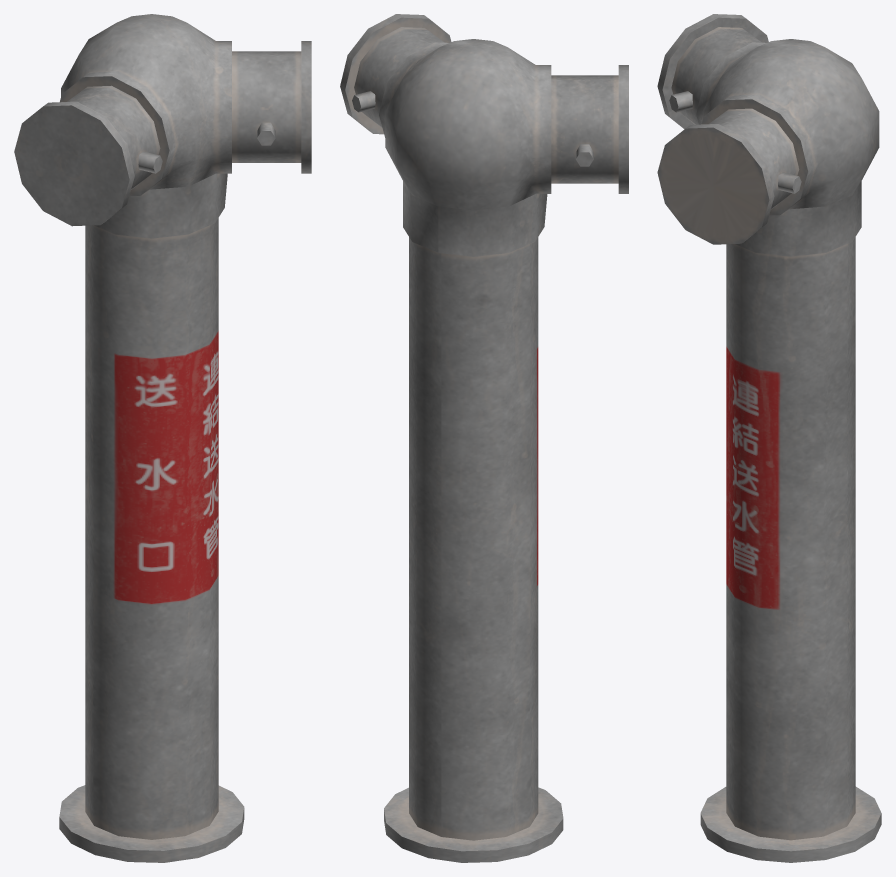
File: wateroutletB.fbx
3 renders of one model, left to right at view 1: azimuth 30°, elevation 25°; view 2: azimuth 150°, elevation 25°; view 3: azimuth 270°, elevation 25°, orthographic. The views are drawn at different scales.
Visible parts, largest first — view 1: wateroutletB; view 2: wateroutletB; view 3: wateroutletB.
Part boxes in pixels (x1=…): wateroutletB: x1=14, y1=14, x2=311, y2=862; wateroutletB: x1=340, y1=14, x2=628, y2=862; wateroutletB: x1=657, y1=14, x2=881, y2=862.
Bounding box in the file's own units: 25.78 × 66.33 × 17.33.
1 material, 1 textured.
